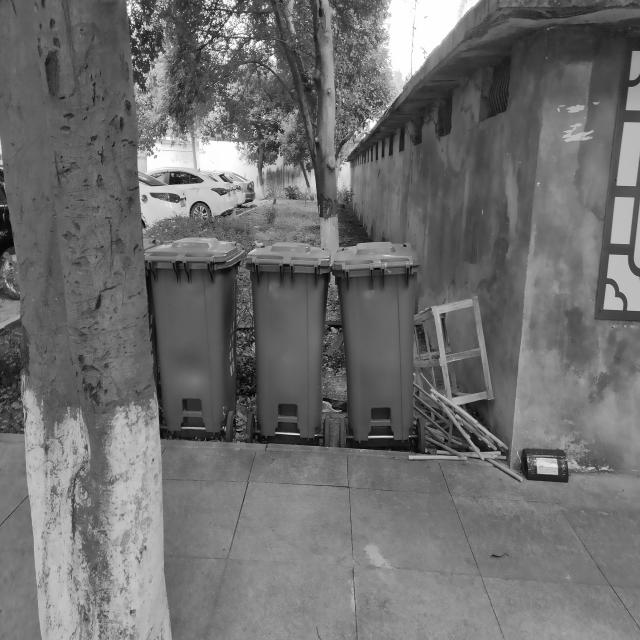ash bin: (144, 234, 246, 442), (332, 238, 428, 450), (245, 244, 332, 449)
car: (150, 165, 234, 223), (137, 170, 189, 227)
